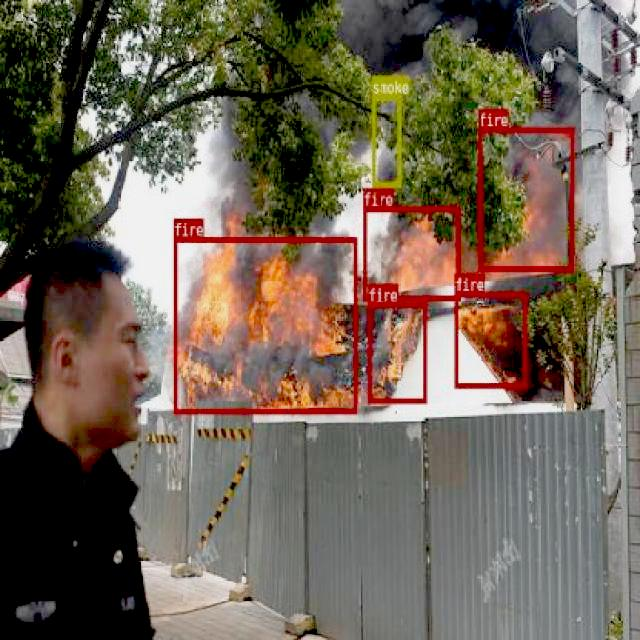fire: (173, 236, 356, 413), (478, 126, 574, 271), (363, 206, 459, 300), (454, 292, 526, 388), (368, 300, 426, 402)
smoke: (372, 94, 401, 188)
